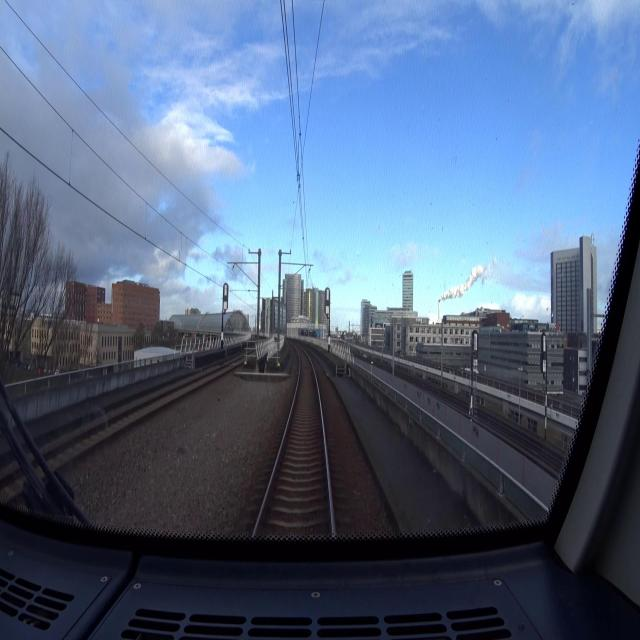rail-track: (256, 349, 331, 539), (52, 382, 199, 463)
